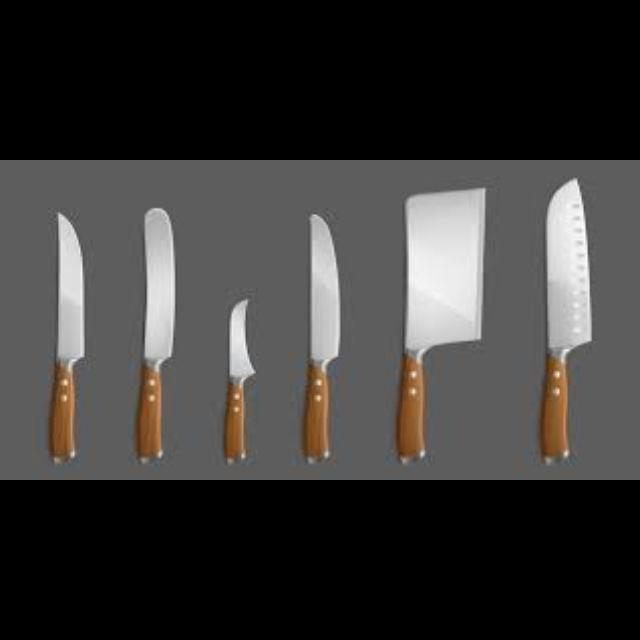knife: (395, 186, 485, 464), (540, 177, 592, 466), (135, 206, 175, 464), (302, 212, 340, 463), (48, 211, 84, 464), (223, 296, 255, 464)
